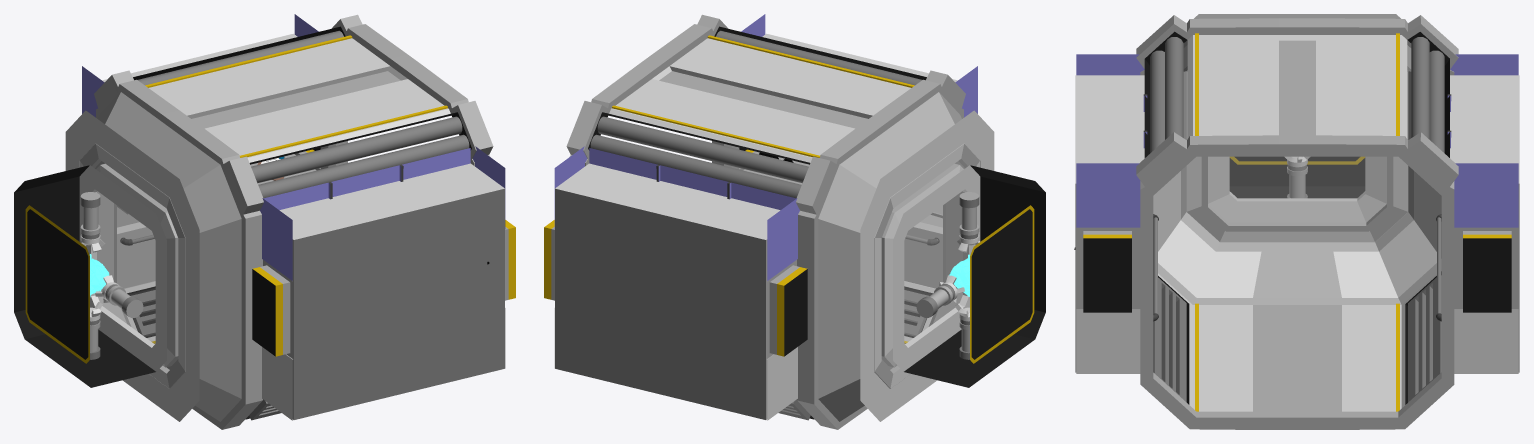
Rendered from Experimental_Module.fbx.
The picture shows the model from 3 angles, left to right: view 1: azimuth 30°, elevation 25°; view 2: azimuth 150°, elevation 25°; view 3: azimuth 270°, elevation 25°; orthographic projection. The views are drawn at different scales.
Visible parts, largest first — view 1: Corridor_Research_Ending, Corridor_Research_Ending.003, Corridor_Research_End_lights, Corridor_Research_Ending.002, Corridor_Research_Ending.001; view 2: Corridor_Research_Ending, Corridor_Research_Ending.003, Corridor_Research_End_lights, Corridor_Research_Ending.002, Corridor_Research_Ending.001; view 3: Corridor_Research_Ending, Corridor_Research_Ending.003, Corridor_Research_End_lights, Corridor_Research_Ending.002.
Boxes of the visible parts, left/top/right/bottom form: Corridor_Research_Ending: left=14, top=14, right=508, bottom=429; Corridor_Research_Ending.003: left=82, top=14, right=505, bottom=420; Corridor_Research_End_lights: left=25, top=35, right=515, bottom=363; Corridor_Research_Ending.002: left=79, top=192, right=143, bottom=359; Corridor_Research_Ending.001: left=89, top=254, right=109, bottom=297; Corridor_Research_Ending: left=551, top=14, right=1045, bottom=429; Corridor_Research_Ending.003: left=554, top=14, right=977, bottom=420; Corridor_Research_End_lights: left=544, top=35, right=1034, bottom=363; Corridor_Research_Ending.002: left=916, top=192, right=980, bottom=359; Corridor_Research_Ending.001: left=949, top=254, right=970, bottom=296; Corridor_Research_Ending: left=1075, top=14, right=1519, bottom=429; Corridor_Research_Ending.003: left=1076, top=54, right=1518, bottom=373; Corridor_Research_End_lights: left=1083, top=33, right=1511, bottom=411; Corridor_Research_Ending.002: left=1285, top=156, right=1309, bottom=198.
Size of the model in its own units: 584 by 428 by 597.
